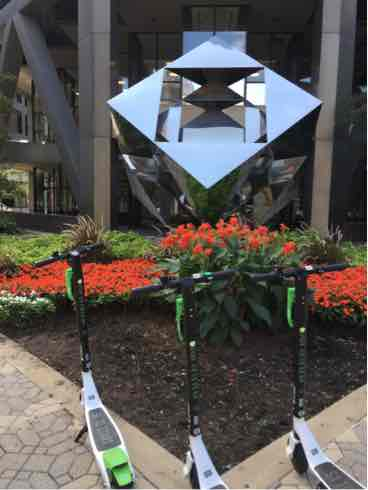scooter: (246, 261, 365, 490), (129, 268, 240, 490), (34, 239, 132, 490)
